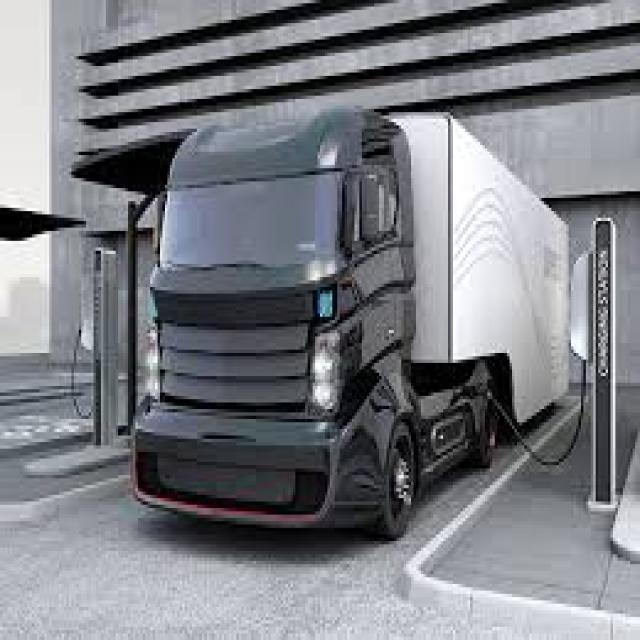truck: (133, 110, 570, 541)
